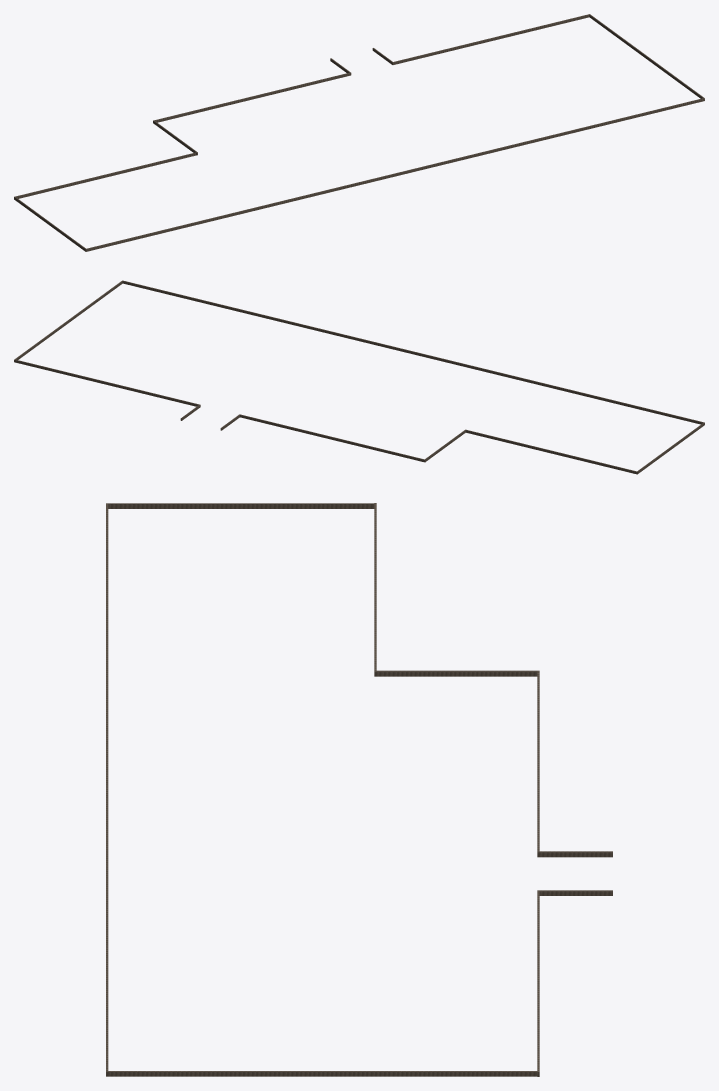
File: City Wall.glb
3 renders of one model, top to bottom at view 1: azimuth 30°, elevation 25°; view 2: azimuth 150°, elevation 25°; view 3: azimuth 270°, elevation 25°, orthographic. The views are drawn at different scales.
Visible parts, largest first — view 1: City Wall; view 2: City Wall; view 3: City Wall.
Part boxes in pixels (x1,y1,x2,y2): City Wall: (14,14,704,251); City Wall: (14,280,704,474); City Wall: (106,503,612,1076).
Bounding box in the file's own units: 1223 × 5 × 461.
Materials: 1 (1 with a texture image).
